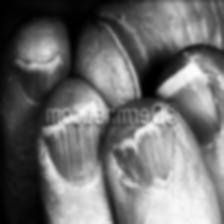Toxin: (109, 130, 152, 187)
